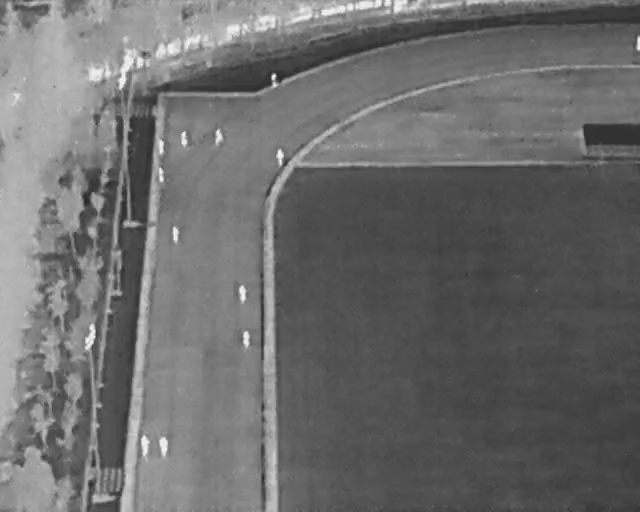Person: (140, 435, 151, 457), (158, 436, 169, 457), (171, 225, 181, 246), (238, 284, 248, 305), (275, 148, 285, 167), (242, 330, 251, 349), (215, 128, 224, 146), (180, 130, 189, 147), (158, 166, 165, 183), (271, 72, 278, 88), (158, 138, 165, 154)
